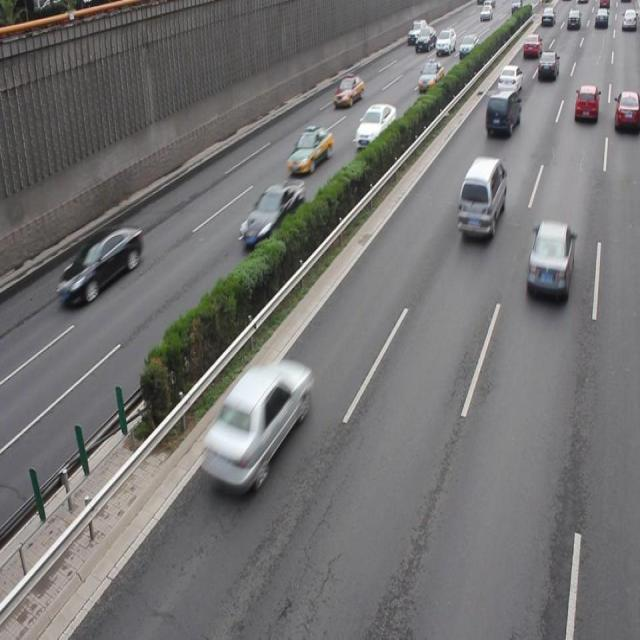car: (200, 360, 311, 494), (59, 227, 144, 308), (239, 180, 304, 251), (526, 220, 572, 300), (285, 126, 332, 174), (355, 104, 395, 151), (485, 88, 519, 137), (611, 90, 640, 134)
truck: (455, 158, 506, 240)
